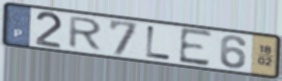2: (35, 11, 64, 50)
6: (219, 35, 248, 70)
7: (107, 17, 139, 57)
E: (177, 26, 215, 68)
L: (144, 25, 174, 62)
R: (66, 16, 105, 53)
